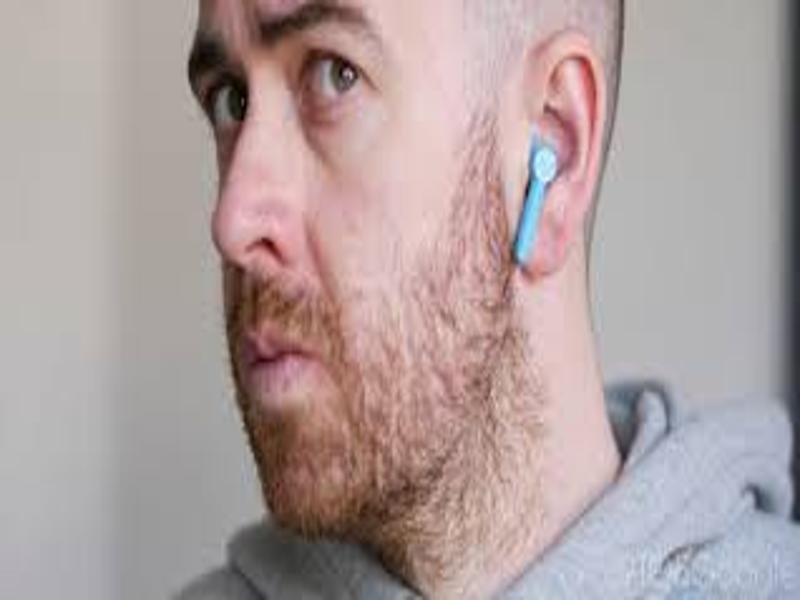headphone: (505, 137, 565, 267)
